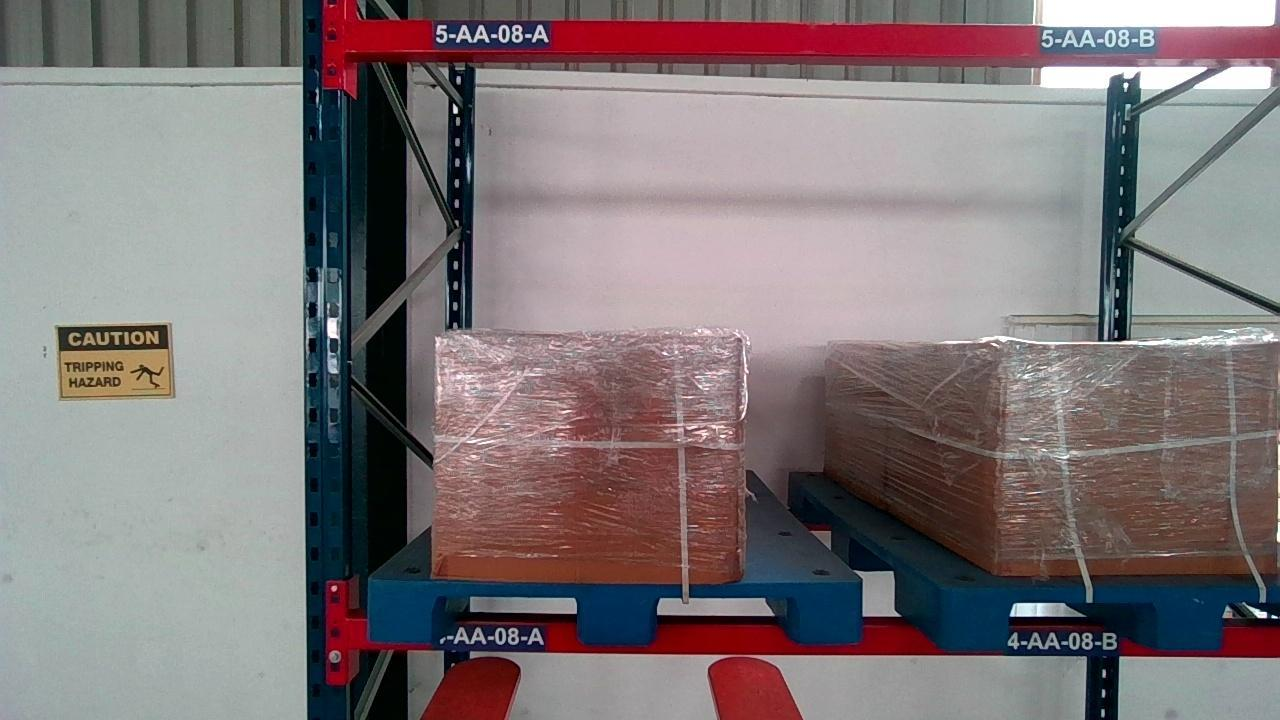h_rack: (349, 617, 1280, 659), (352, 20, 1279, 56)
small_pallet: (366, 583, 862, 642), (944, 588, 1279, 651)
